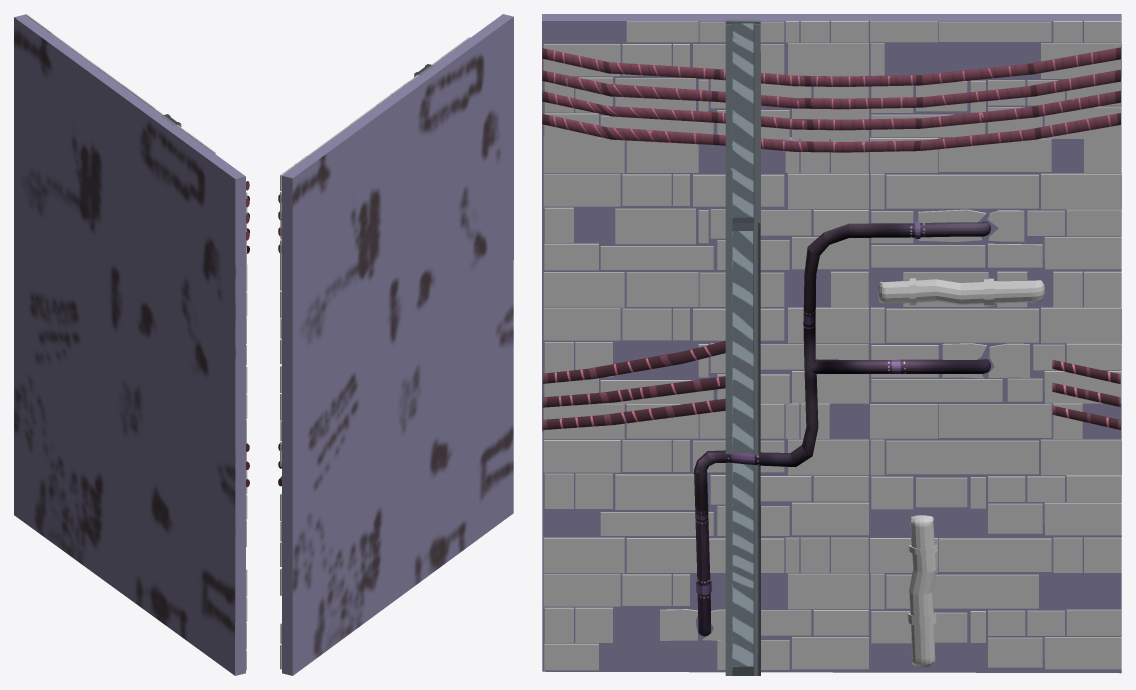
The model's file is FutureInter_FIN.fbx.
3 renders of one model, left to right at view 1: azimuth 30°, elevation 25°; view 2: azimuth 150°, elevation 25°; view 3: azimuth 270°, elevation 25°, orthographic. The views are drawn at different scales.
Parts seen in each view (by area): view 1: CITY INTERM.003; view 2: CITY INTERM.003; view 3: CITY INTERM.003.
Boxes of the visible parts, x1,y1,x2,y2 form: CITY INTERM.003: (14,14,249,675); CITY INTERM.003: (278,14,513,675); CITY INTERM.003: (542,14,1121,675).
Bounding box in the file's own units: 103 × 2483 × 1999.
